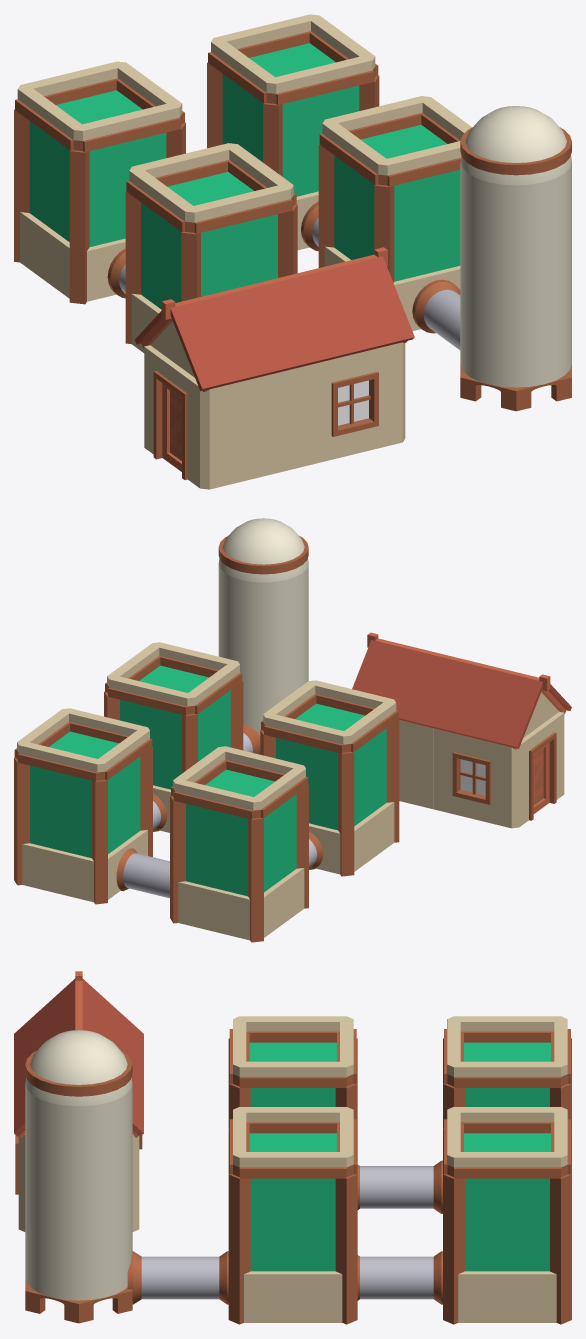
Rendered from puits_de_carbone.glb.
3 views of the same model, one above another, from view 1: azimuth 30°, elevation 25°; view 2: azimuth 150°, elevation 25°; view 3: azimuth 270°, elevation 25° (orthographic). The views are drawn at different scales.
Parts seen in each view (by area): view 1: mergedBlocks(Clone); view 2: mergedBlocks(Clone); view 3: mergedBlocks(Clone).
Boxes of the visible parts, left/top/right/bottom form: mergedBlocks(Clone): left=14, top=14, right=571, bottom=489; mergedBlocks(Clone): left=14, top=518, right=571, bottom=942; mergedBlocks(Clone): left=14, top=971, right=571, bottom=1324.
Size of the model in its own units: 4.25 by 2.75 by 5.21.
1 material, 1 textured.
